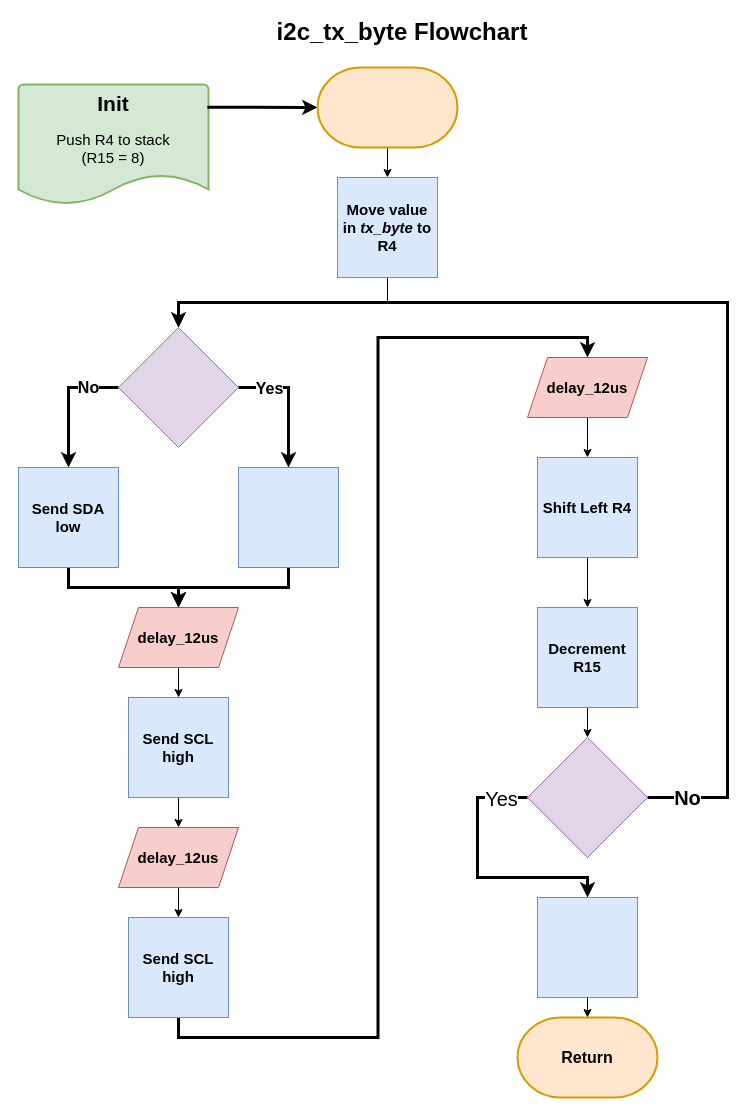
Image size: 754x1115. Some labels were removed from this diagram. The centre of each missing label's shape, as x and y in pixels:
"i2c_tx_byte" goes at (x=387, y=107).
"Is MSb of lower byte of R4 = 1?" goes at (x=178, y=387).
"R15 = 0?" goes at (x=587, y=797).
"Send SDA high" goes at (x=288, y=517).
"Set R15 to 8, Pop R4" goes at (x=587, y=947).
